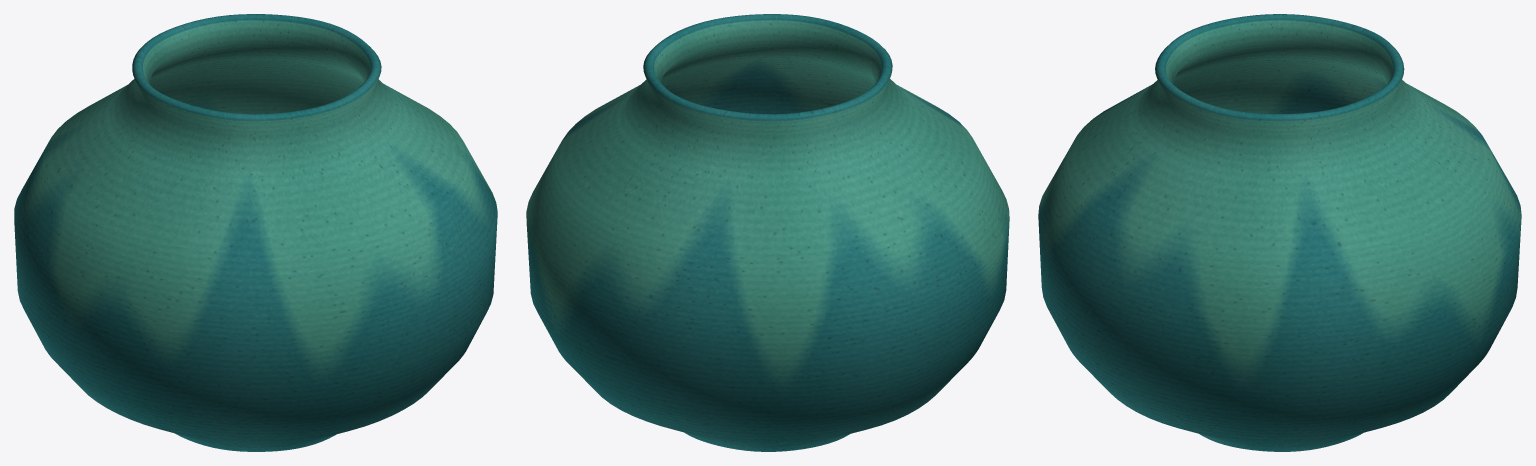
Rendered from B078JGRLCJ.glb.
The picture shows the model from 3 angles, left to right: view 1: azimuth 30°, elevation 25°; view 2: azimuth 150°, elevation 25°; view 3: azimuth 270°, elevation 25°; orthographic projection.
Visible parts, largest first — view 1: round 1; view 2: round 1; view 3: round 1.
Part boxes in pixels (x1,y1,x2,y2): round 1: [14, 14, 497, 451]; round 1: [526, 14, 1009, 451]; round 1: [1038, 14, 1521, 451].
Bounding box in the file's own units: 1.28 × 1.02 × 1.28.
Materials: 2 (1 with a texture image).
